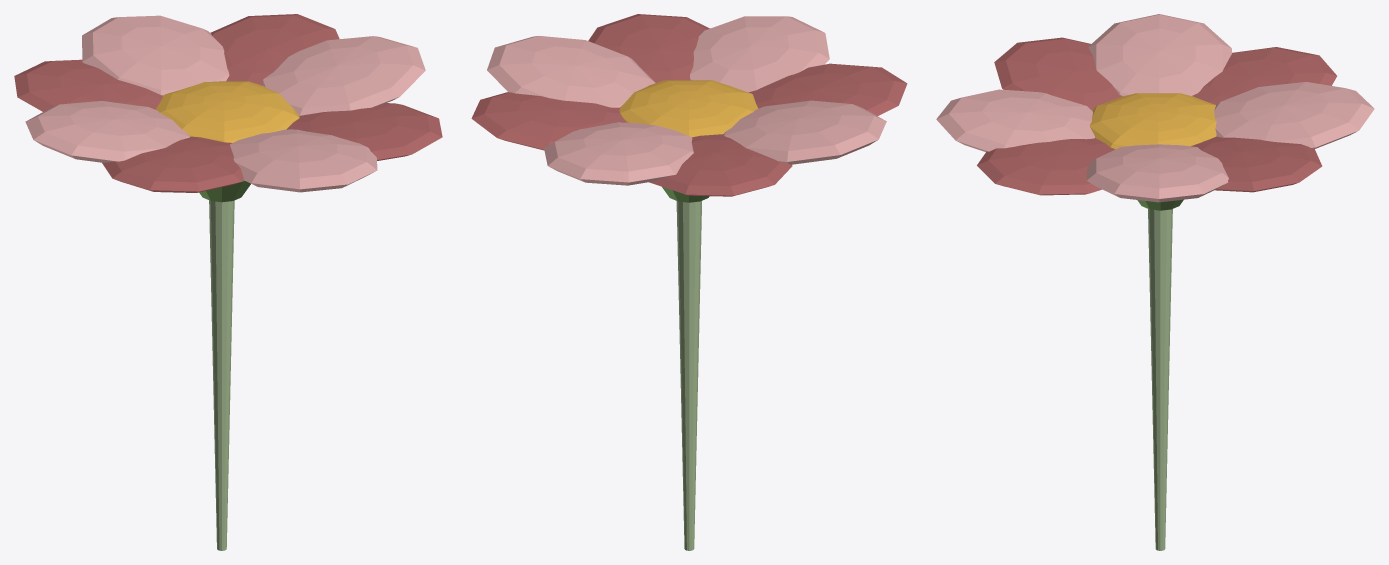
File: Flower.fbx
The picture shows the model from 3 angles, left to right: view 1: azimuth 30°, elevation 25°; view 2: azimuth 150°, elevation 25°; view 3: azimuth 270°, elevation 25°; orthographic projection. The views are drawn at different scales.
Parts seen in each view (by area): view 1: pSphere11; view 2: pSphere11; view 3: pSphere11.
Boxes of the visible parts, x1,y1,x2,y2 form: pSphere11: (14,14,442,550); pSphere11: (471,14,907,550); pSphere11: (936,14,1374,550).
Size of the model in its own units: 0.0474 by 0.0543 by 0.0479.
